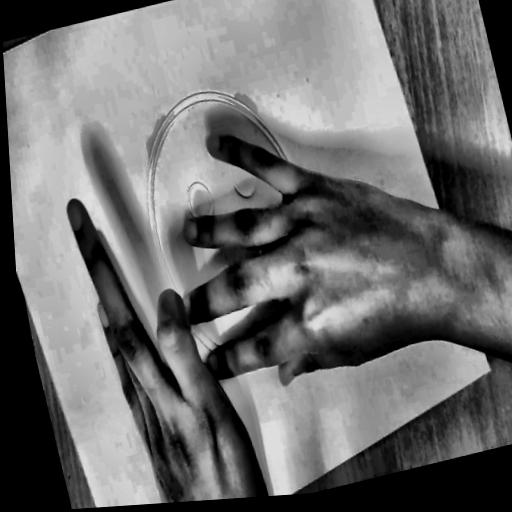bottom_right: (485, 362, 494, 376)
button: (95, 44, 369, 417)
